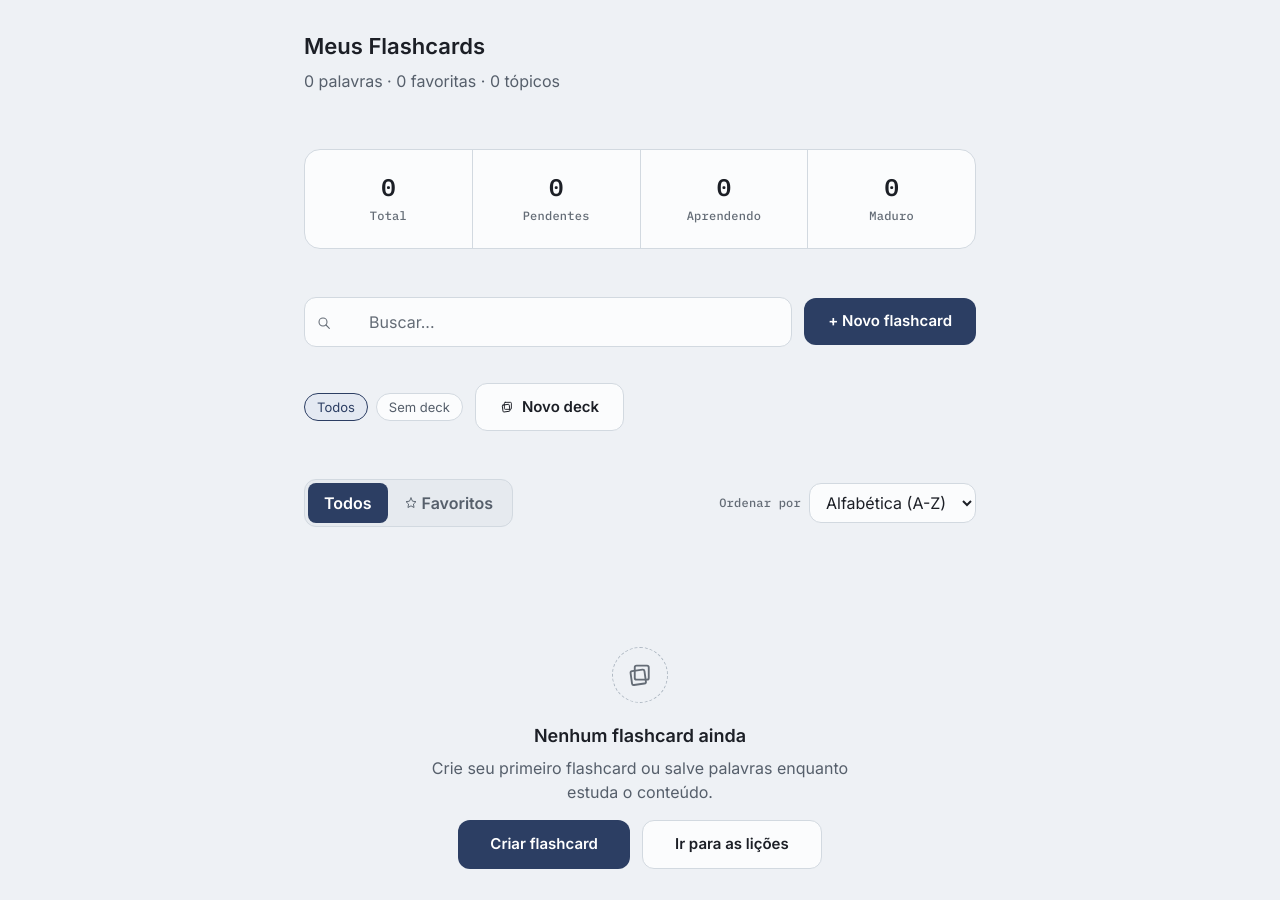
it: MyFlashcards - content survives narrow layouts (U4) › still opens and closes the 'novo flashcard' overlay - unaffected by the layout changes
Click the button "+ Novo flashcard": (890, 322) [804, 298, 976, 345]
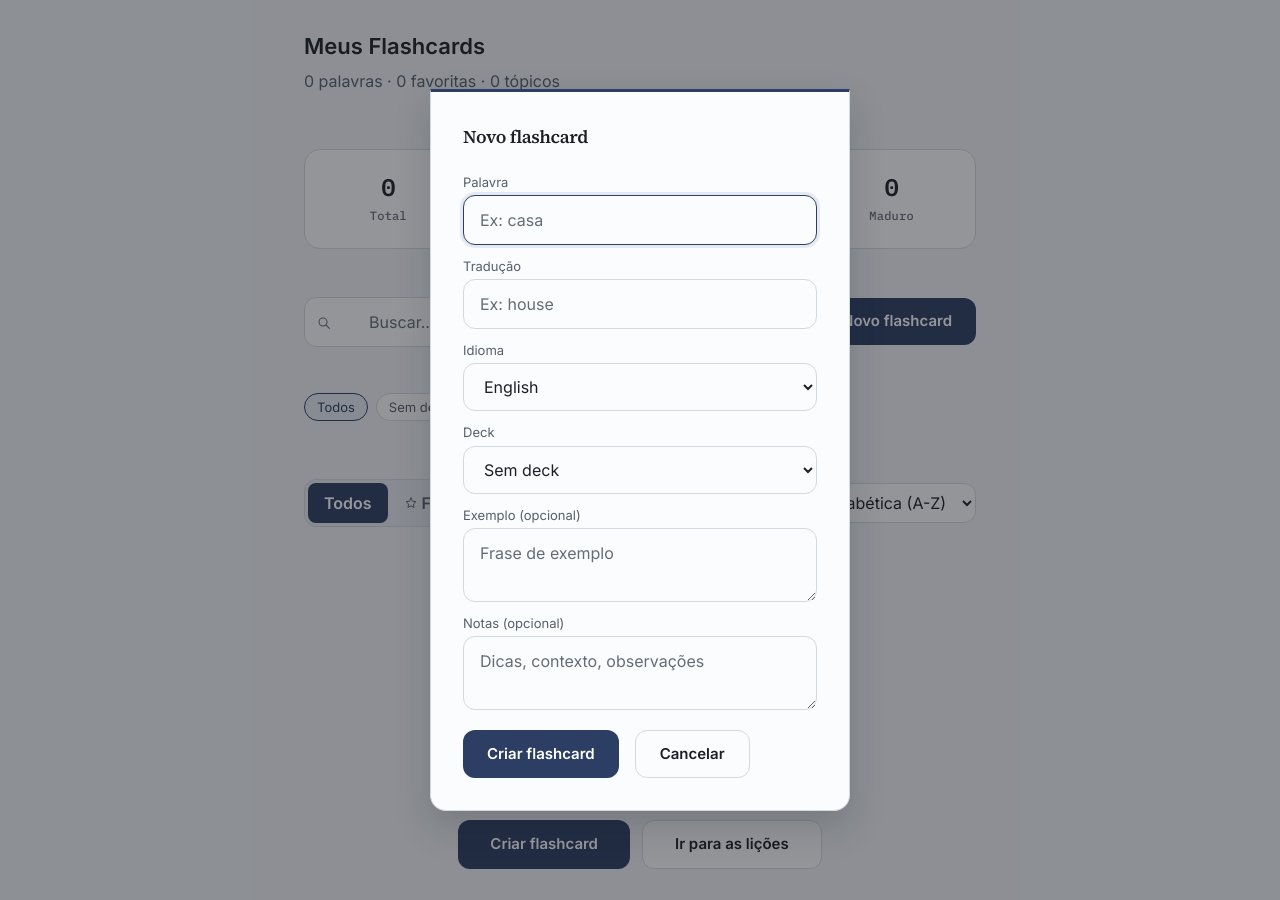
Now the dialog is shown, box [430, 89, 850, 811]
Click the button "Cancelar": (692, 754) [635, 730, 750, 778]
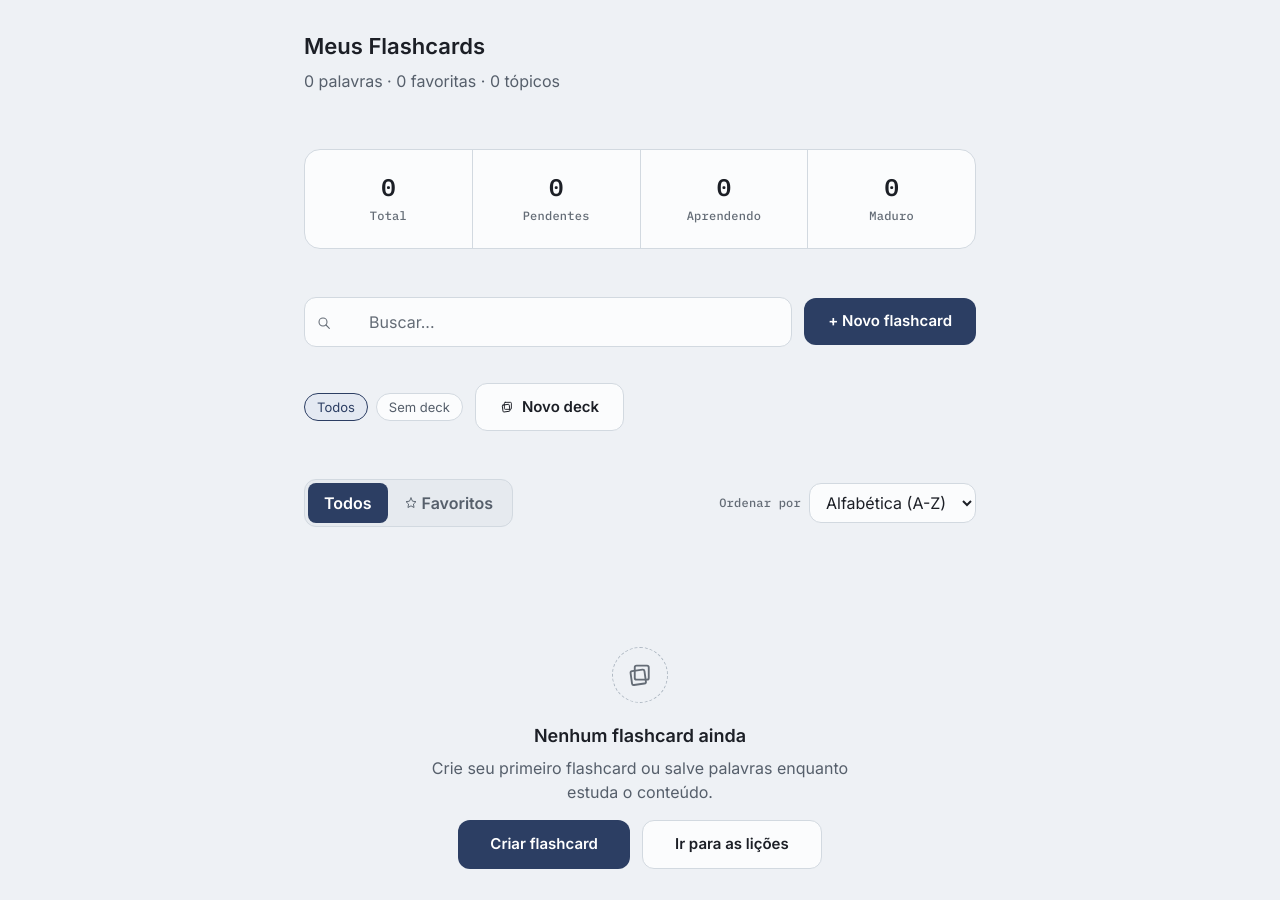
Now the dialog is gone
